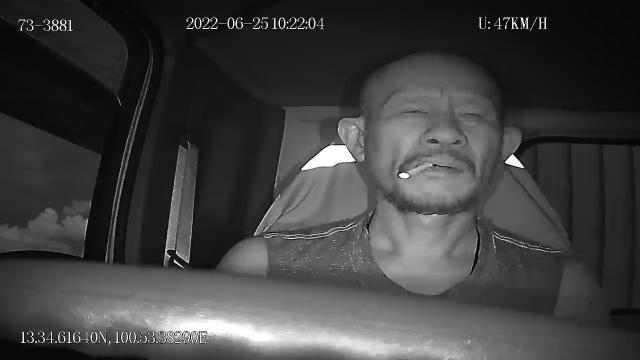Smoking: (398, 163, 432, 179)
